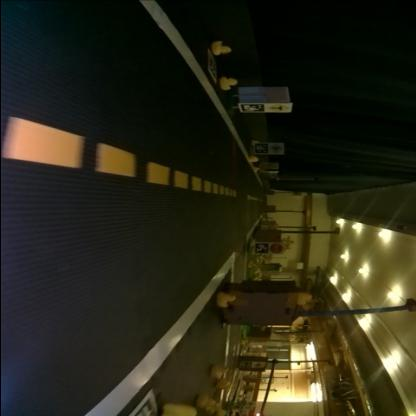Duckie: (160, 405, 193, 415), (212, 42, 232, 56), (217, 293, 235, 308), (196, 396, 215, 407), (220, 78, 236, 90), (297, 294, 313, 306), (210, 368, 224, 378), (250, 156, 258, 162), (251, 167, 259, 173)
Intersection sign: (268, 105, 288, 111)
QR code: (206, 55, 218, 81), (254, 144, 269, 154), (242, 106, 264, 112), (256, 244, 268, 254)
Stop sign: (272, 245, 284, 255)
